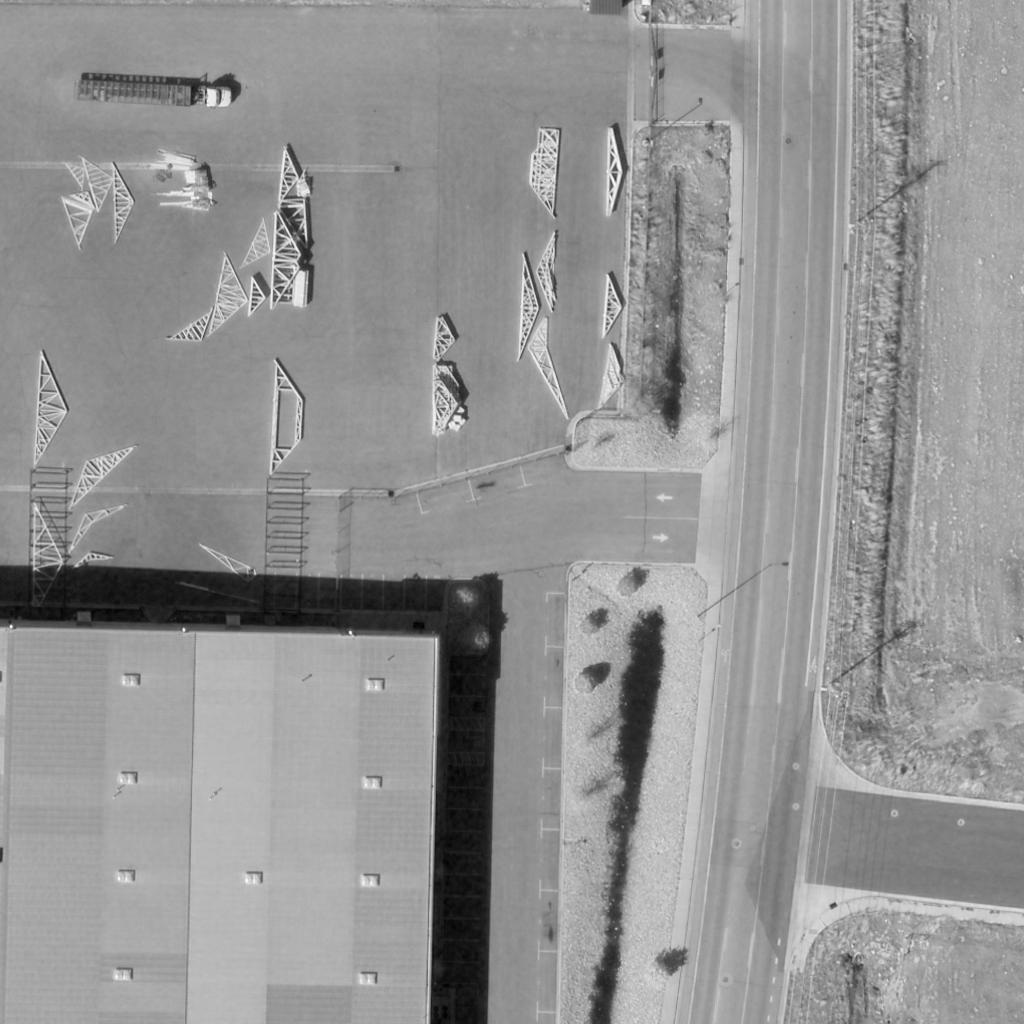vehicle: (73, 77, 233, 109)
